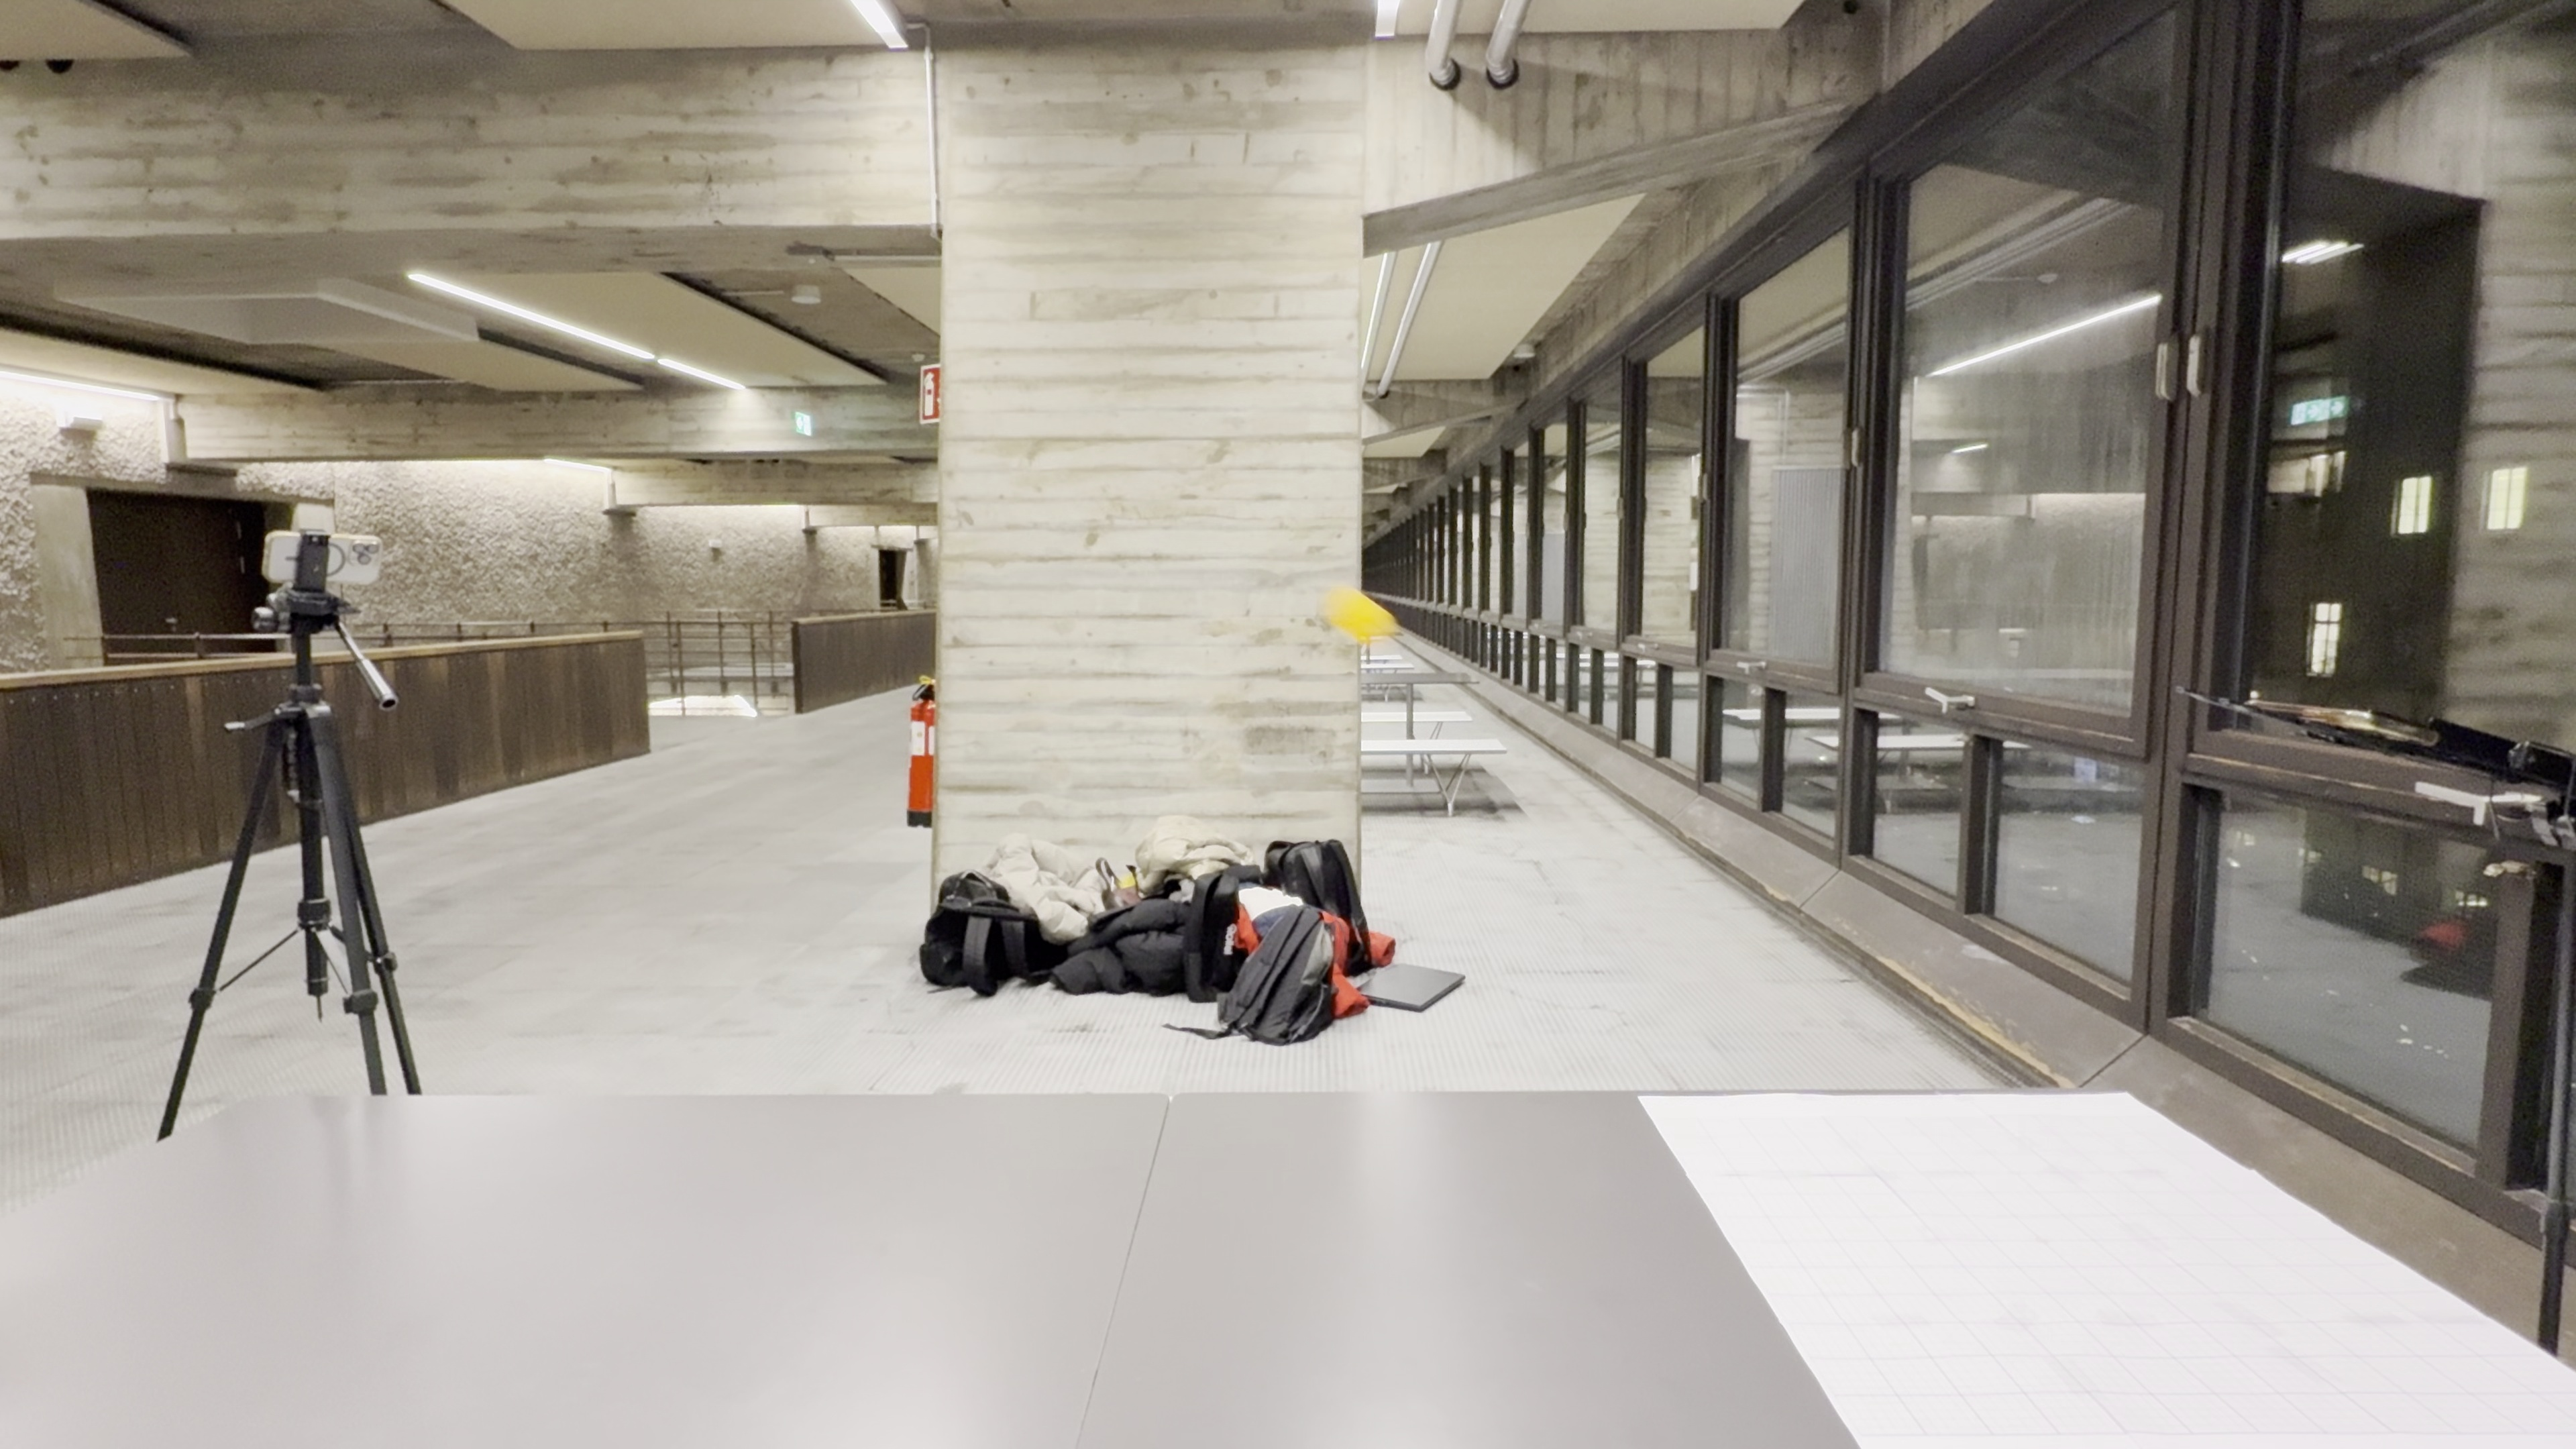ping-pong ball: (1325, 580, 1401, 653)
